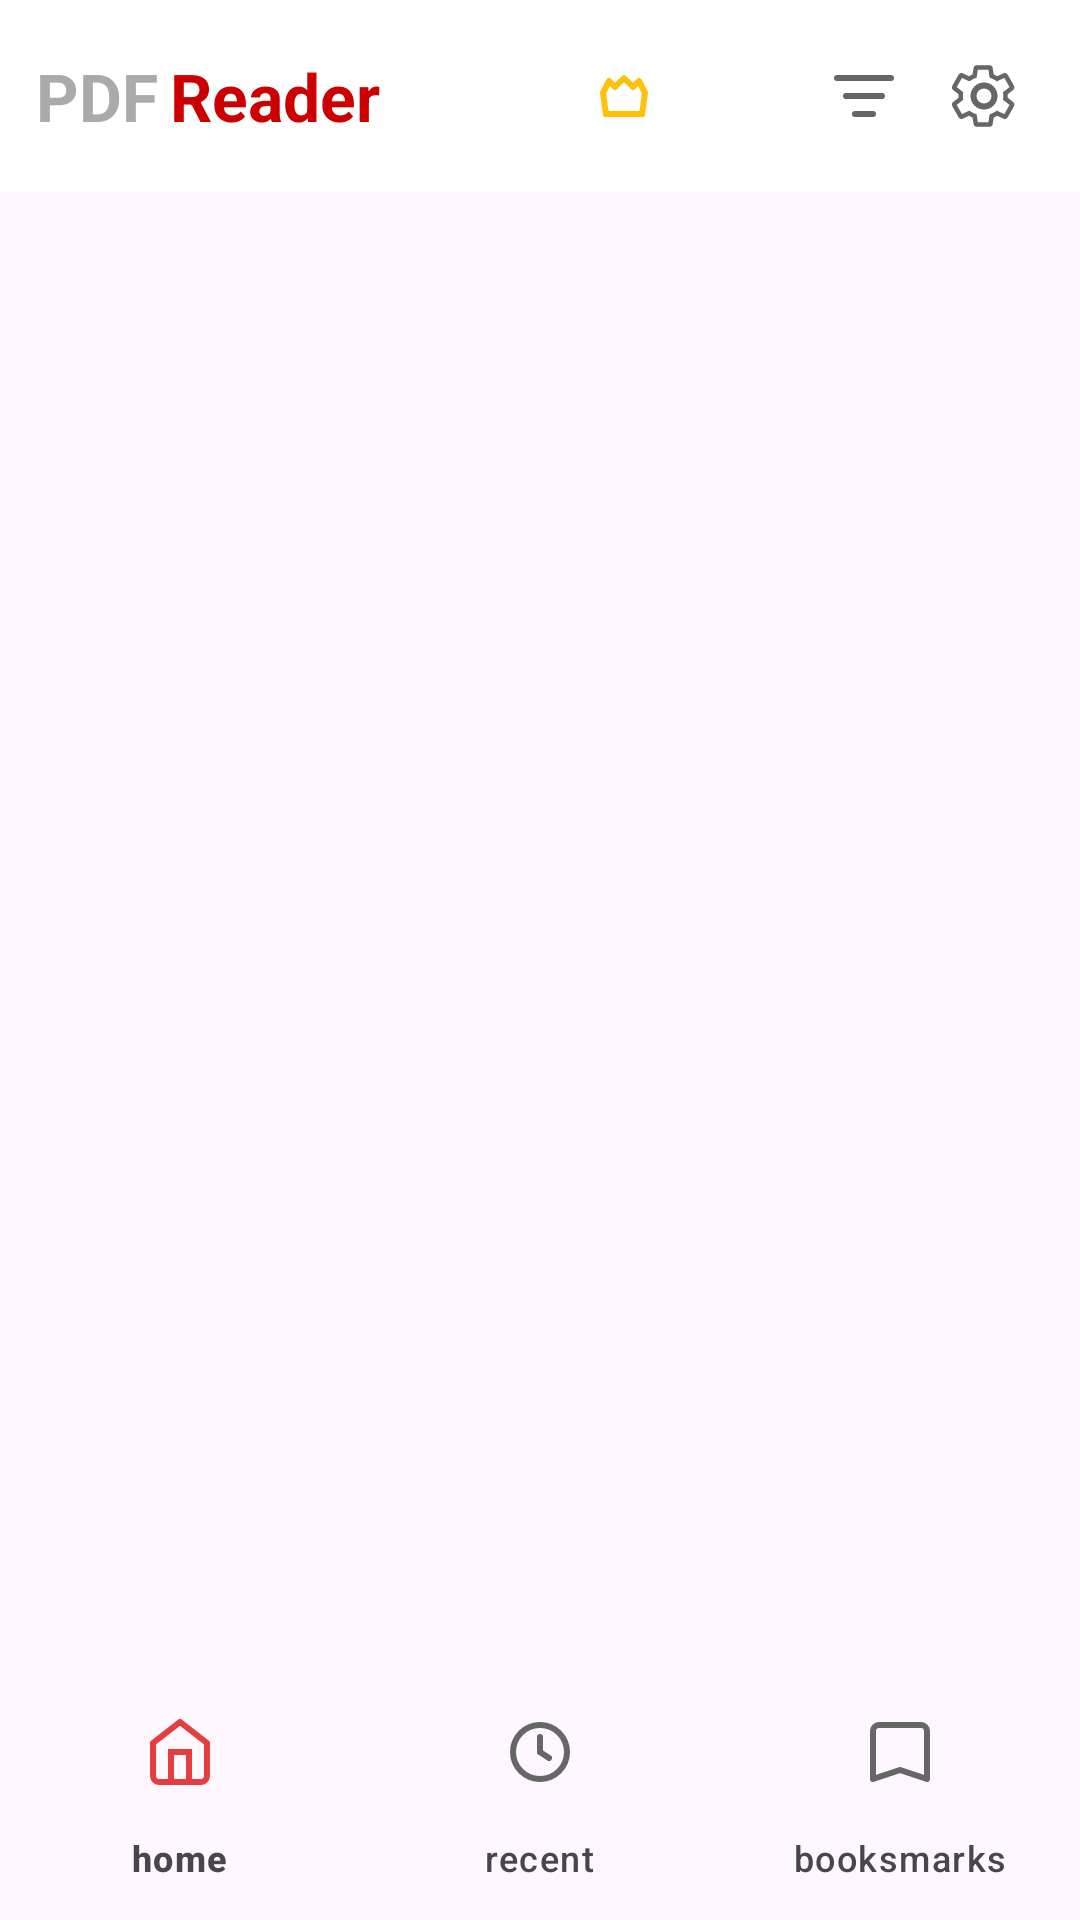

Where to tap for icons on this 1080*1920 app screen, as point (x, y):
Crown: point (624, 96)
Settings: point (983, 96)
Sort: point (864, 96)
